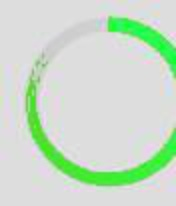ProgressBar: (1, 1, 175, 205)
